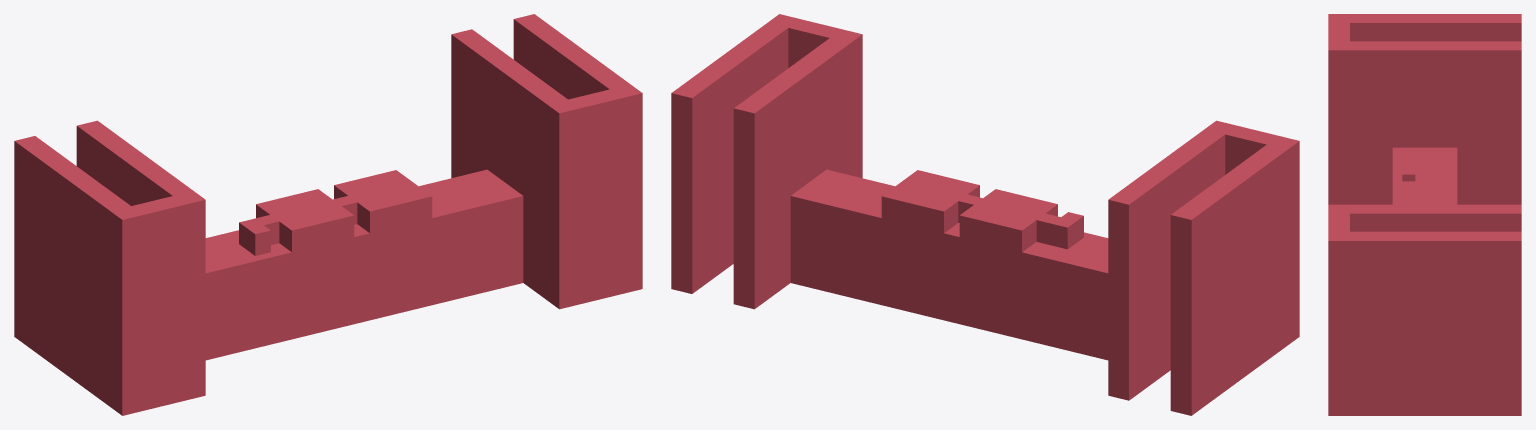
The model's file is nsshow.glb.
3 renders of one model, left to right at view 1: azimuth 30°, elevation 25°; view 2: azimuth 150°, elevation 25°; view 3: azimuth 270°, elevation 25°, orthographic. The views are drawn at different scales.
Parts seen in each view (by area): view 1: Mesh_Mesh_head_geo.001_lambert2SG.001; view 2: Mesh_Mesh_head_geo.001_lambert2SG.001; view 3: Mesh_Mesh_head_geo.001_lambert2SG.001.
Part boxes in pixels (x1=…): Mesh_Mesh_head_geo.001_lambert2SG.001: x1=14, y1=14, x2=642, y2=415; Mesh_Mesh_head_geo.001_lambert2SG.001: x1=671, y1=14, x2=1299, y2=415; Mesh_Mesh_head_geo.001_lambert2SG.001: x1=1328, y1=14, x2=1521, y2=415.
Size of the model in its own units: 125 by 45 by 45.
